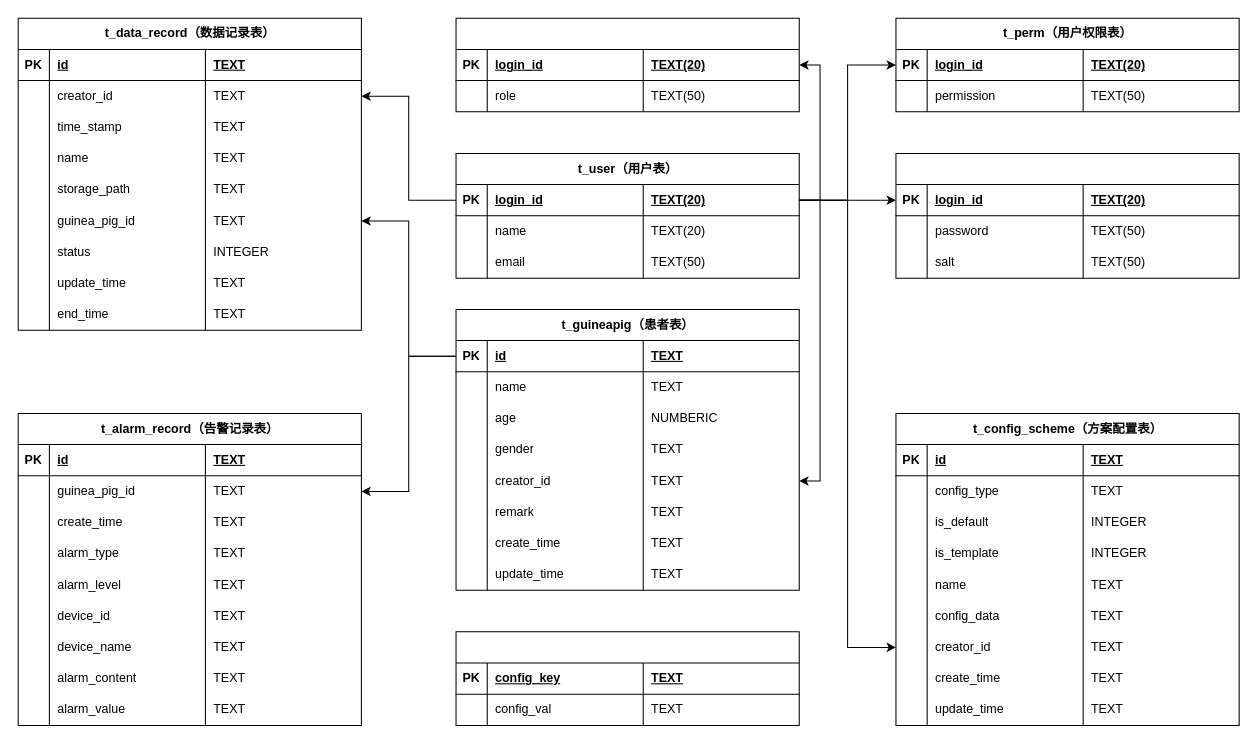
Some shapes in this 1257 by 744 pixel diagram are drawn without their labels. The shapes that lost their labels are listed below. From the top down, each one's box as (x1, y1, x2, y2) in pixels, then its label:
(455, 17, 799, 112): t_role（用户角色表）
(895, 152, 1239, 278): t_user_pwd（用户密码表）
(455, 631, 799, 725): t_app_config（通用配置表）
